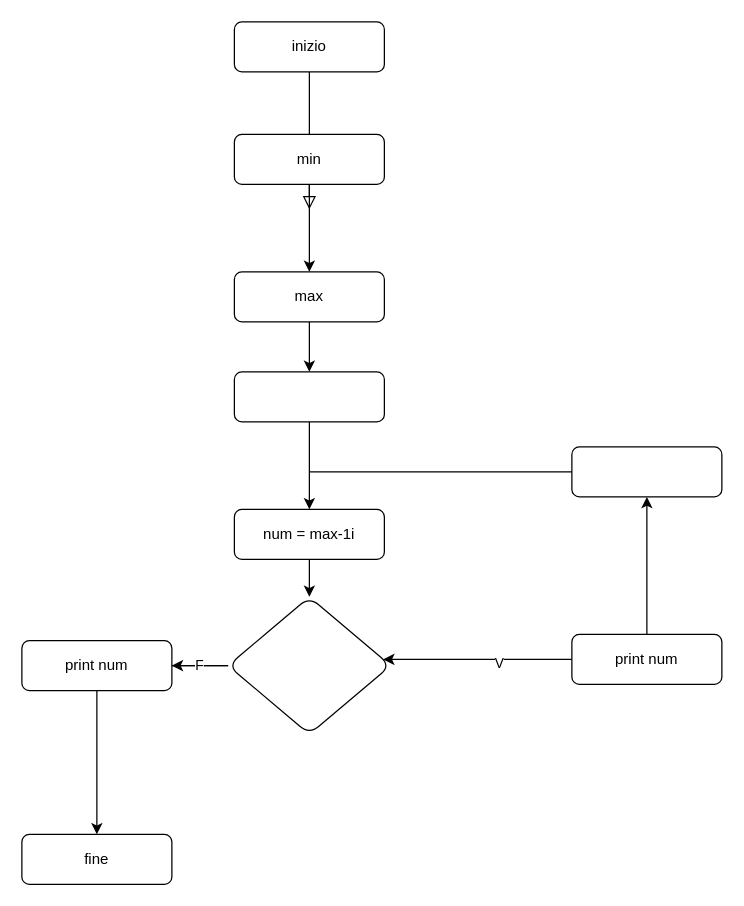
Some shapes in this 744 by 906 pixel diagram are drawn without their labels. The shapes that lost their labels are listed below. From the top down, each one's centre as x and y in pixels, then its label:
At point (308, 396): "i = 0".
At point (646, 471): "i++".
At point (309, 665): "i <= max-min".
